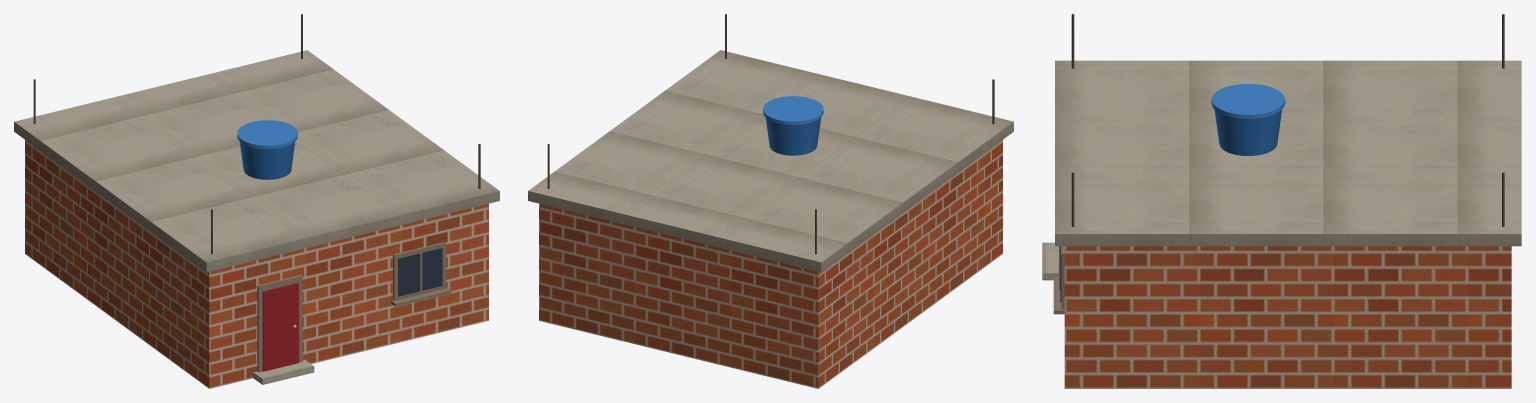
File: casa-tijolo.glb
3 views of the same model, side by side, from view 1: azimuth 30°, elevation 25°; view 2: azimuth 150°, elevation 25°; view 3: azimuth 270°, elevation 25° (orthographic). The views are drawn at different scales.
Parts seen in each view (by area): view 1: casa-tijolo; view 2: casa-tijolo; view 3: casa-tijolo.
Part boxes in pixels (box(x1,y1,x2,y2)): casa-tijolo: box(14, 14, 499, 388); casa-tijolo: box(528, 14, 1013, 388); casa-tijolo: box(1042, 14, 1521, 388).
Bounding box in the file's own units: 7.35 × 4.2 × 8.58.
9 materials, 2 textured.
